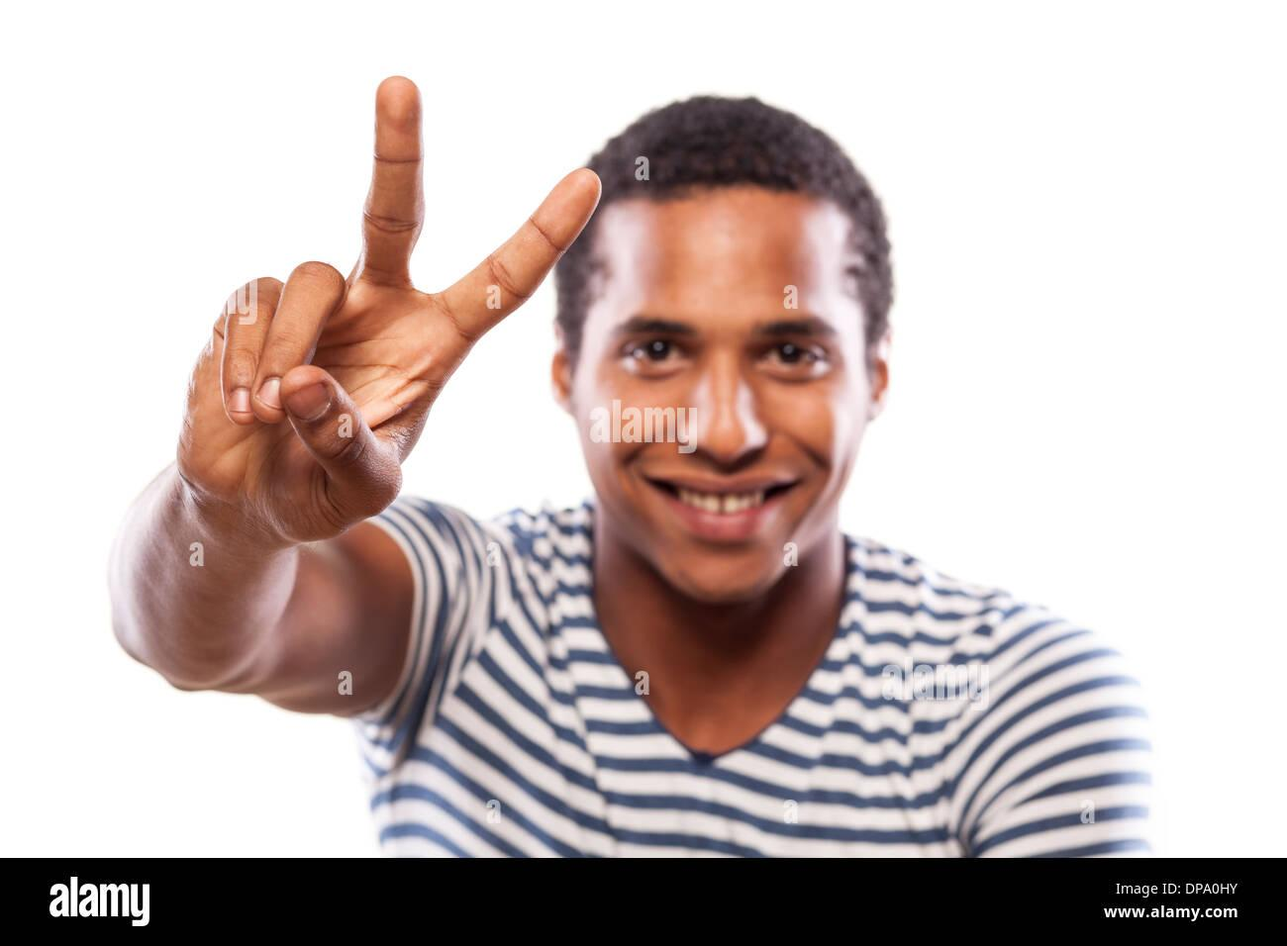peace_sign: (167, 50, 606, 594)
